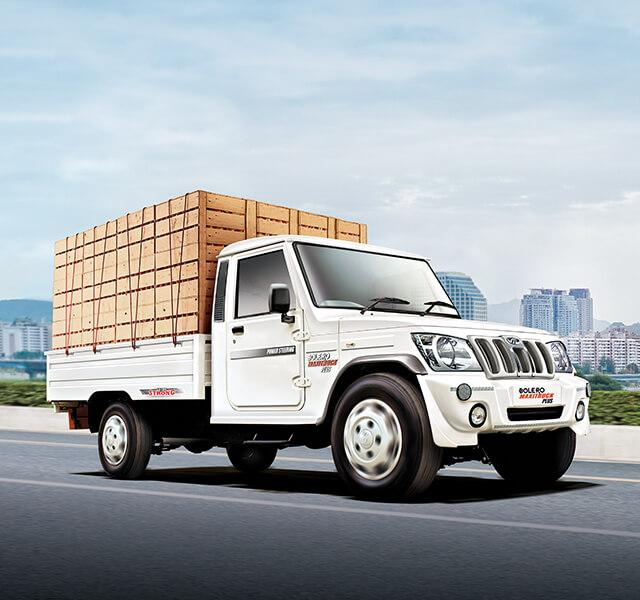truck: (44, 190, 592, 502)
